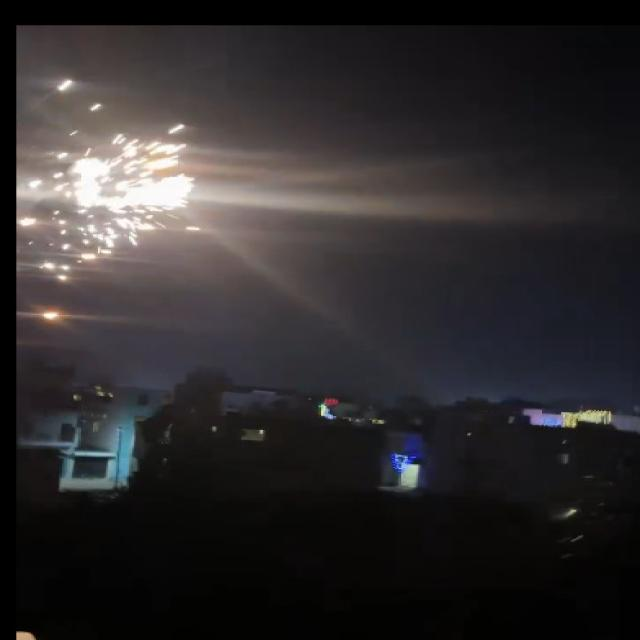fire: (67, 160, 197, 212)
